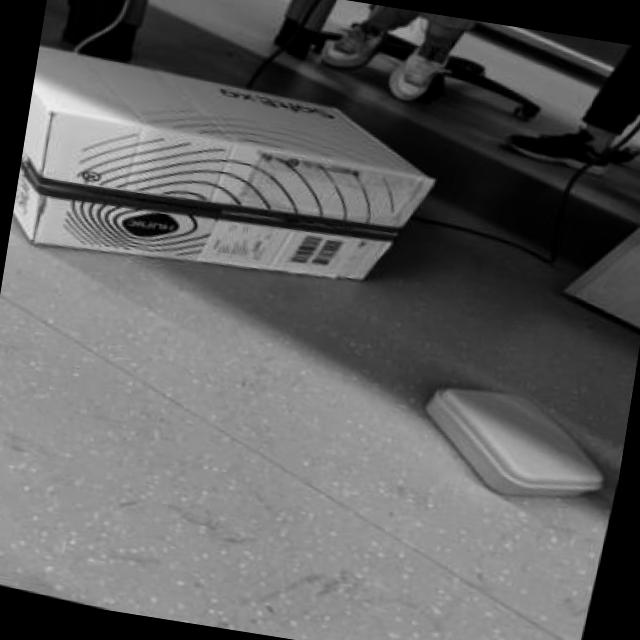box: (1, 10, 474, 352), (384, 348, 634, 558)
